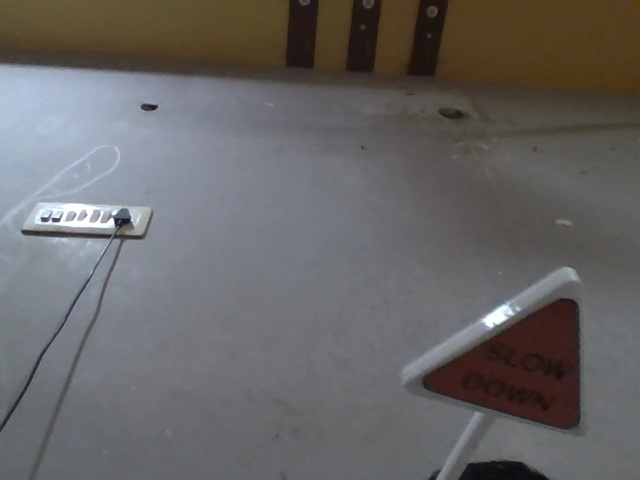slowdown: (395, 239, 600, 442)
